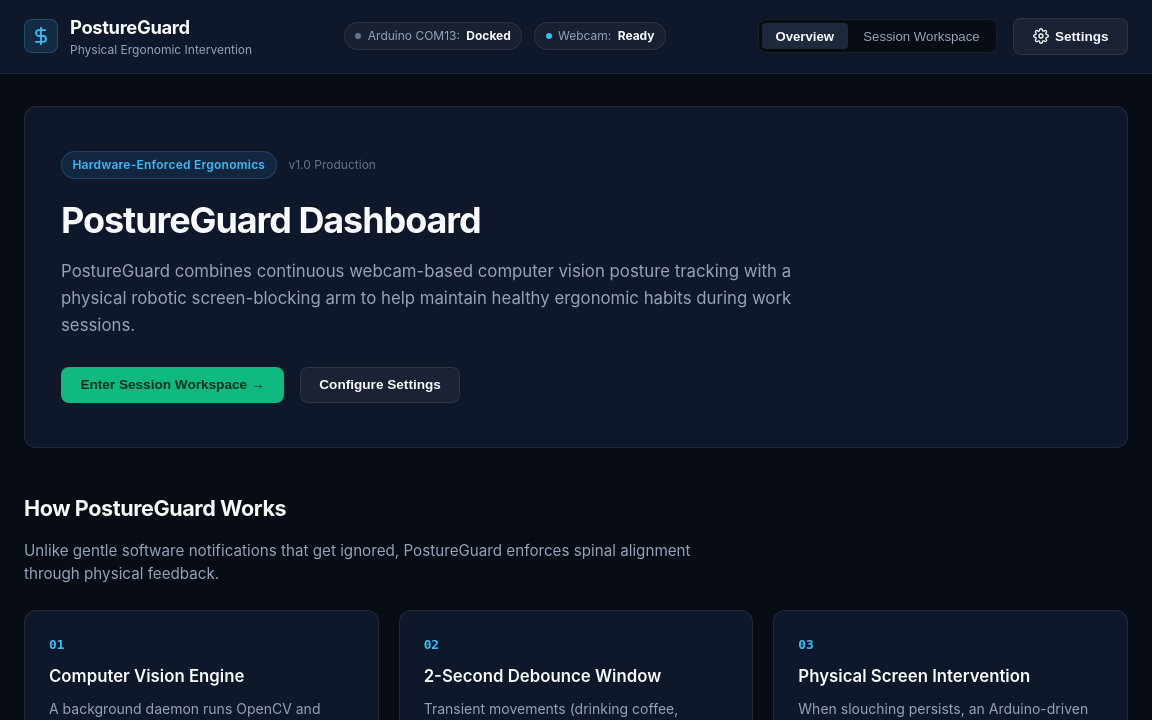
Intro & Navigation › navigates from Overview to Session Workspace on button click
What coordinates should you click on to do the following:
click the button "Enter Session Workspace →"
I would click on:
 (172, 385)
Its box is [61, 367, 284, 403].
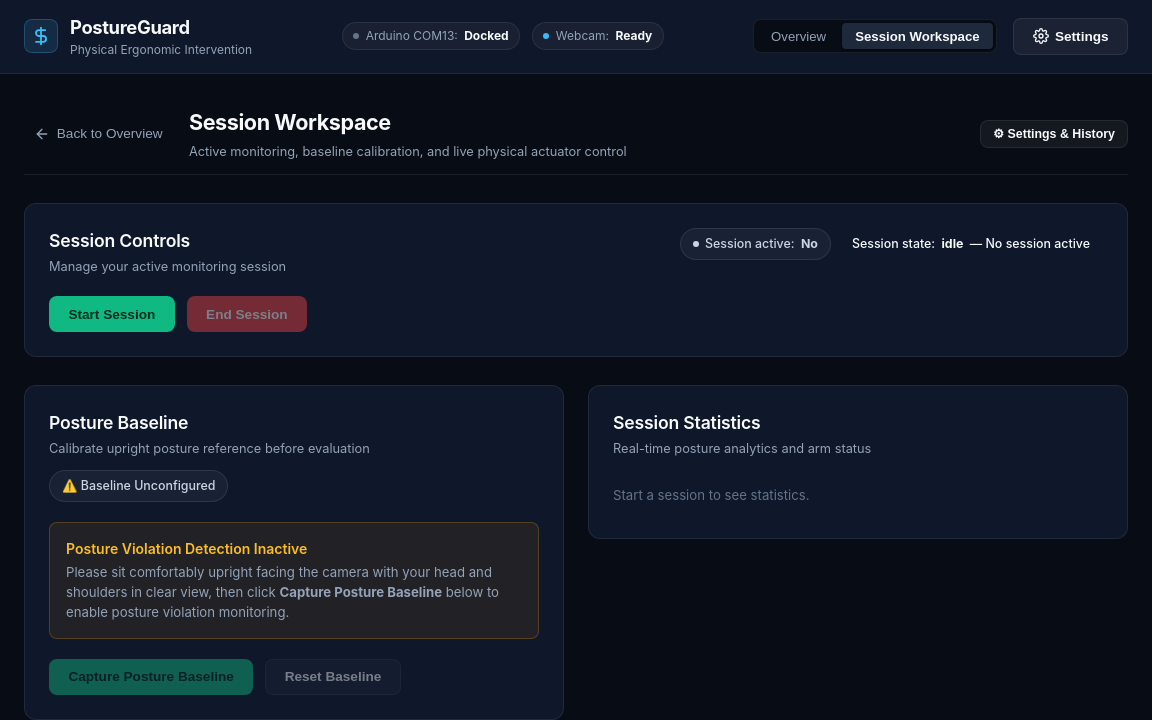
Check: the button "Start Session" is shown, box [49, 296, 175, 332]
Check: the button "End Session" is shown, box [187, 296, 307, 332]
